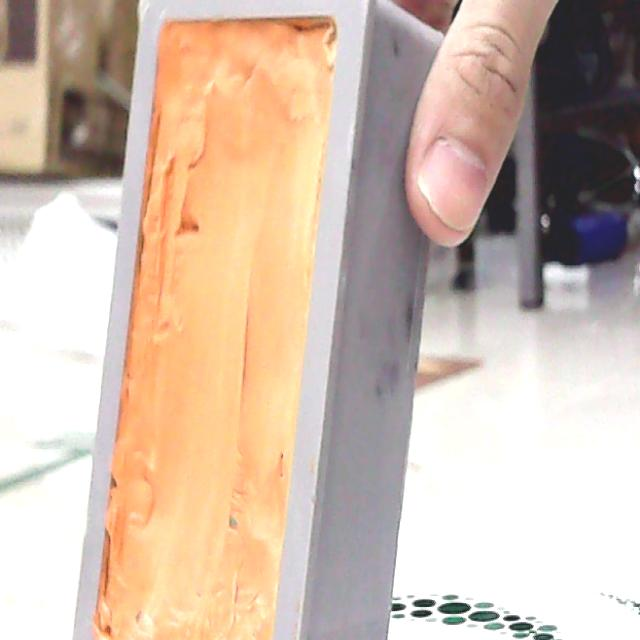block: (68, 0, 453, 640)
